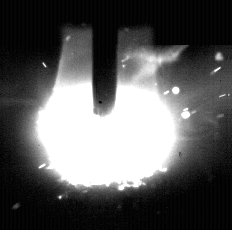arame: (94, 0, 117, 117)
poca: (36, 0, 176, 230)
